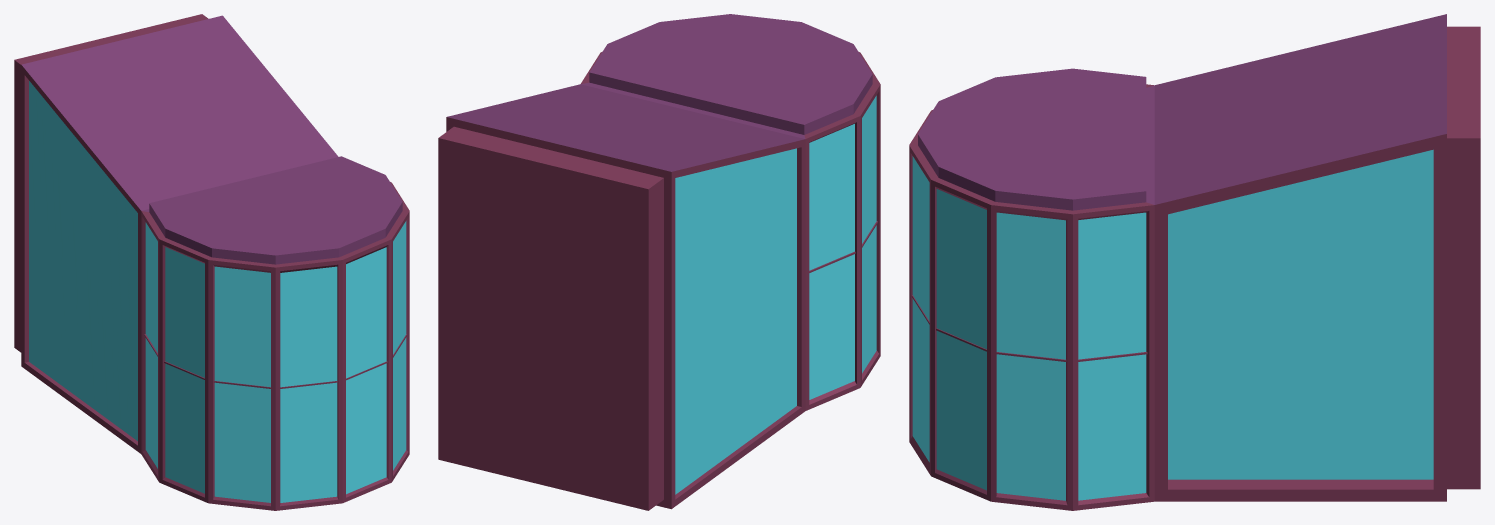
Rendered from Building2.fbx.
3 renders of one model, left to right at view 1: azimuth 30°, elevation 25°; view 2: azimuth 150°, elevation 25°; view 3: azimuth 270°, elevation 25°, orthographic. The views are drawn at different scales.
Visible parts, largest first — view 1: Object2; view 2: Object2; view 3: Object2.
Boxes of the visible parts, x1,y1,x2,y2 form: Object2: (14, 14, 409, 510); Object2: (438, 14, 880, 510); Object2: (909, 14, 1480, 510).
Size of the model in its own units: 200 by 248 by 349.
